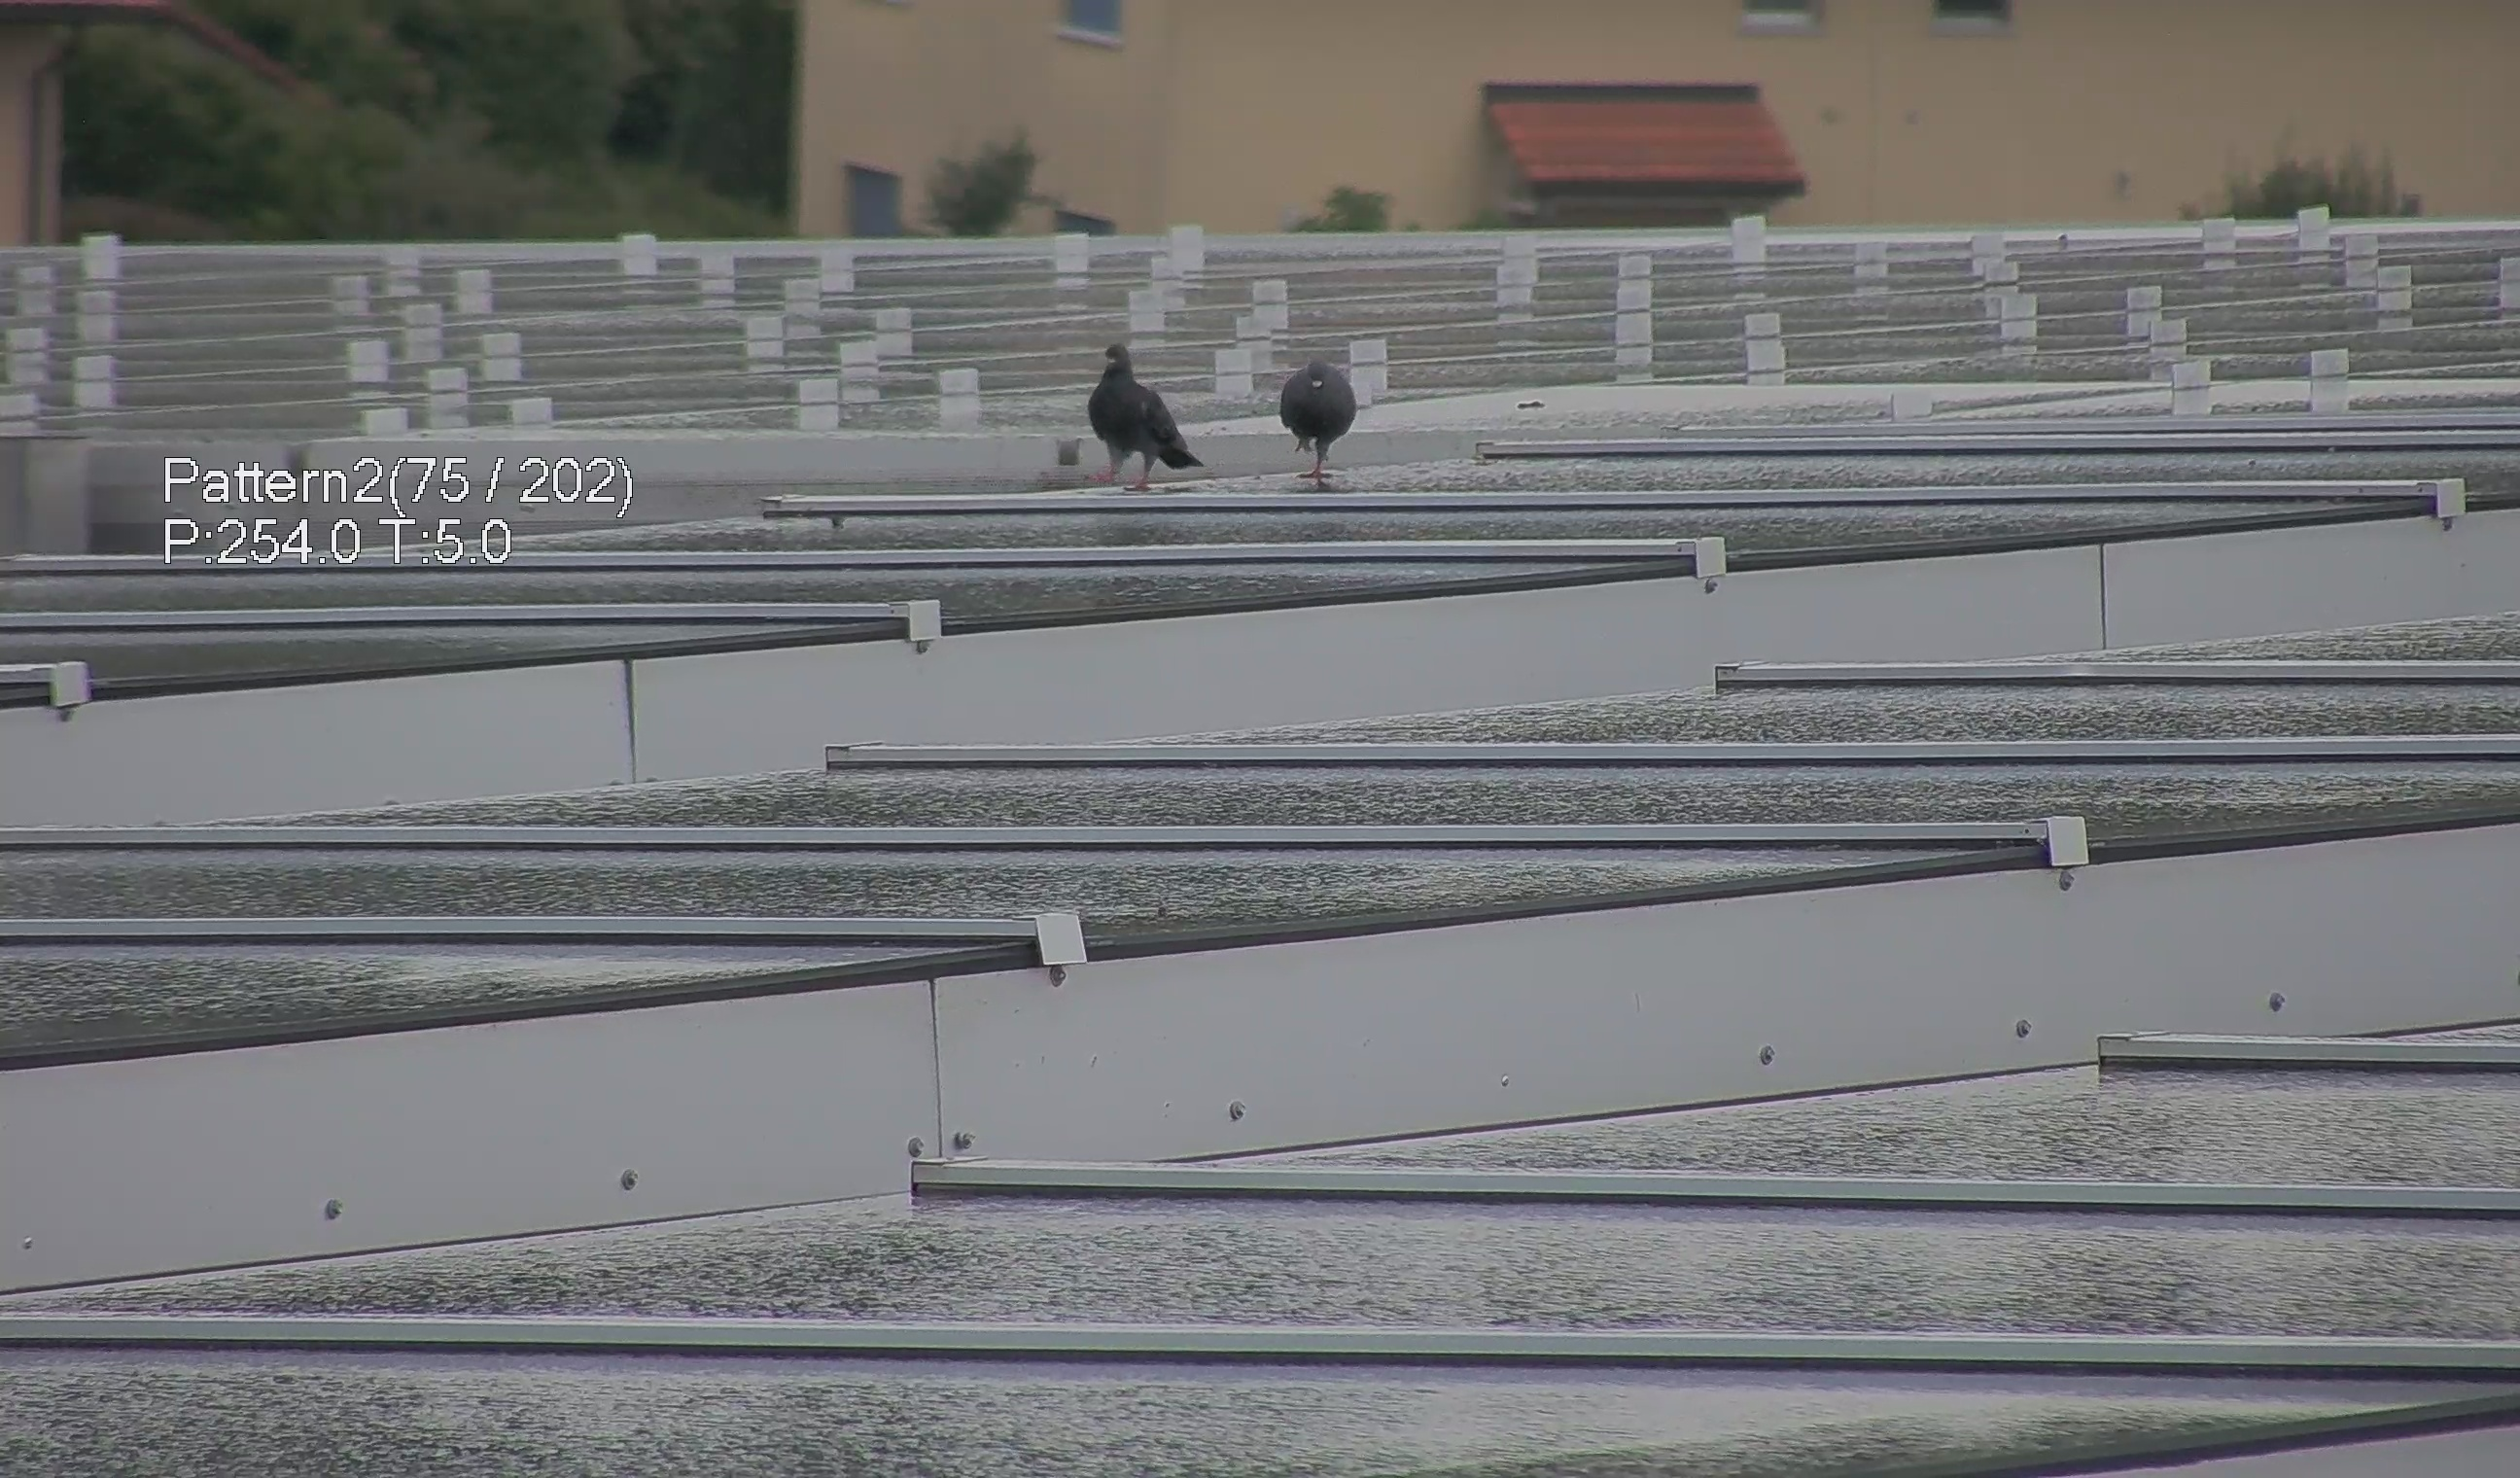Pigeon: (1078, 329, 1212, 486), (1273, 336, 1370, 477)
